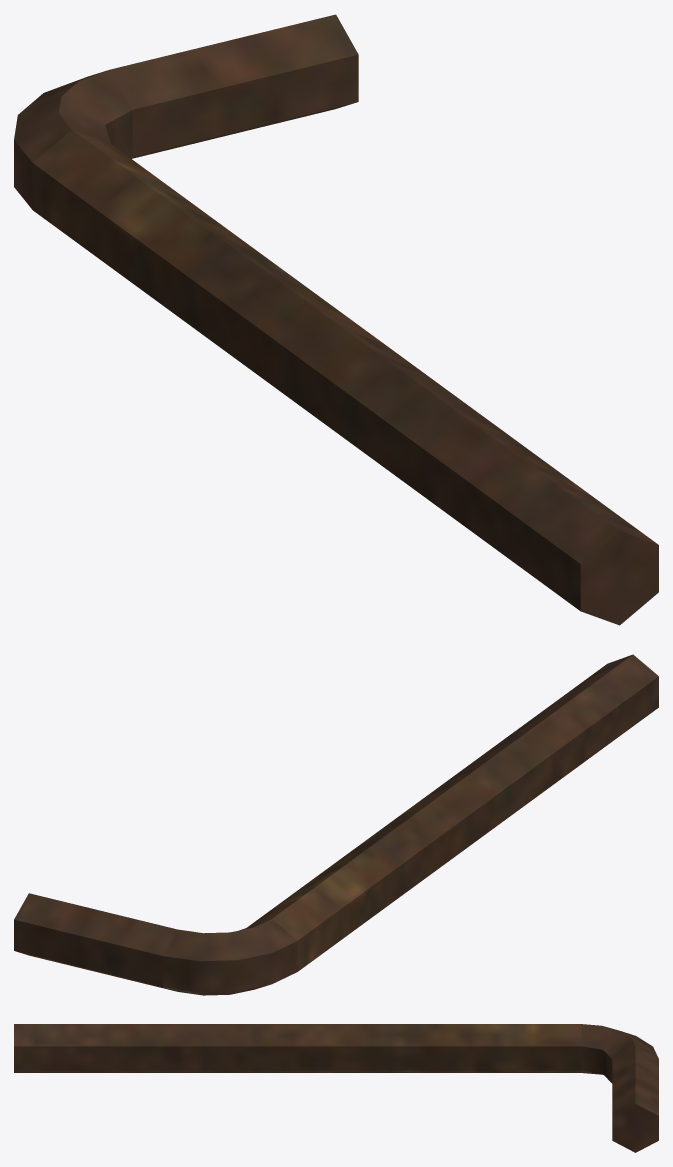
File: allen_key_mx_1.obj
3 views of the same model, one above another, from view 1: azimuth 30°, elevation 25°; view 2: azimuth 150°, elevation 25°; view 3: azimuth 270°, elevation 25° (orthographic). The views are drawn at different scales.
Parts seen in each view (by area): view 1: allen_key_mx_1; view 2: allen_key_mx_1; view 3: allen_key_mx_1.
Part boxes in pixels (x1=…): allen_key_mx_1: x1=14, y1=14, x2=658, y2=625; allen_key_mx_1: x1=14, y1=654, x2=658, y2=995; allen_key_mx_1: x1=14, y1=1024, x2=658, y2=1152.
Size of the model in its own units: 0.0787 by 0.02 by 0.2387.
